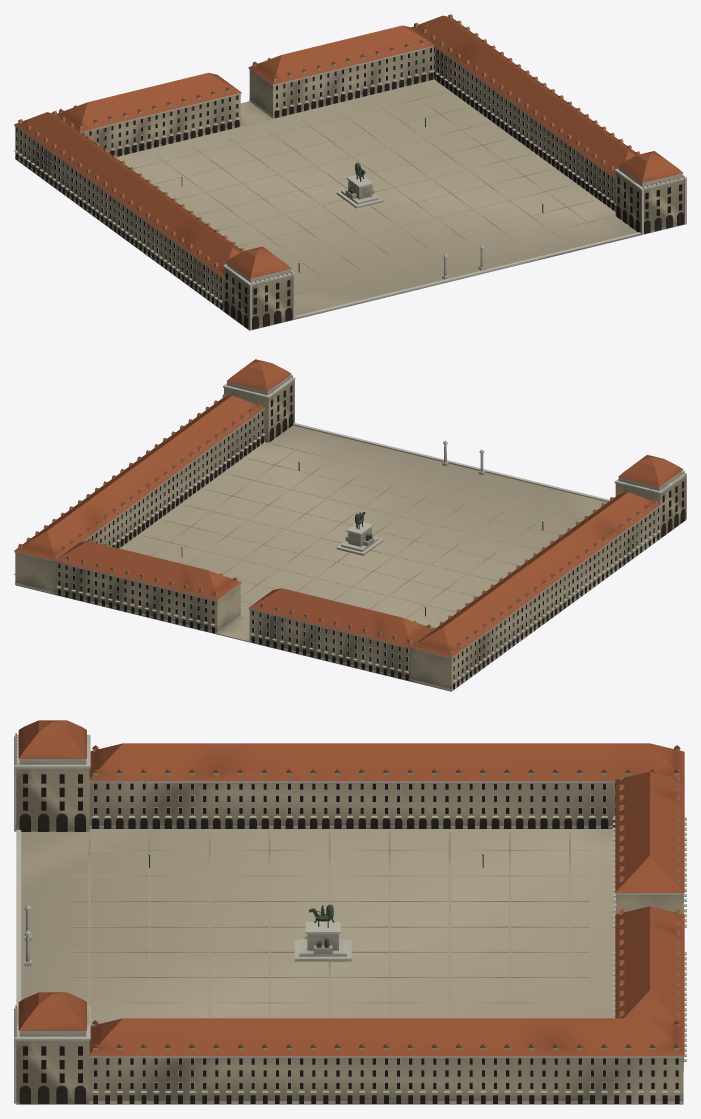
Rendered from praca-comercio.glb.
3 views of the same model, one above another, from view 1: azimuth 30°, elevation 25°; view 2: azimuth 150°, elevation 25°; view 3: azimuth 270°, elevation 25° (orthographic). The views are drawn at different scales.
Visible parts, largest first — view 1: p0_square, p1_arcades, p2_towers and statue; view 2: p0_square, p1_arcades, p2_towers and statue; view 3: p1_arcades, p0_square, p2_towers and statue.
Part boxes in pixels (left/top/right/bottom): p0_square: left=15, top=79, right=684, bottom=330; p1_arcades: left=14, top=14, right=640, bottom=311; p2_towers and statue: left=181, top=117, right=686, bottom=330; p0_square: left=15, top=423, right=685, bottom=691; p1_arcades: left=14, top=394, right=661, bottom=691; p2_towers and statue: left=181, top=359, right=686, bottom=616; p1_arcades: left=88, top=743, right=686, bottom=1103; p0_square: left=16, top=829, right=683, bottom=1104; p2_towers and statue: left=14, top=720, right=484, bottom=1103.
Size of the model in its own units: 217 by 31.5 by 202.
